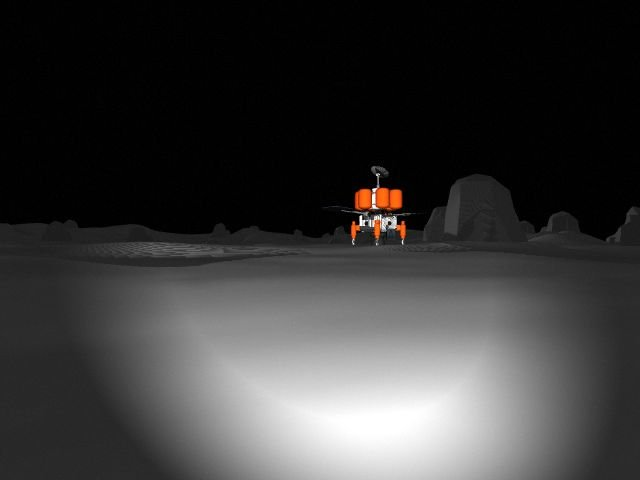homebase: (321, 163, 429, 246)
